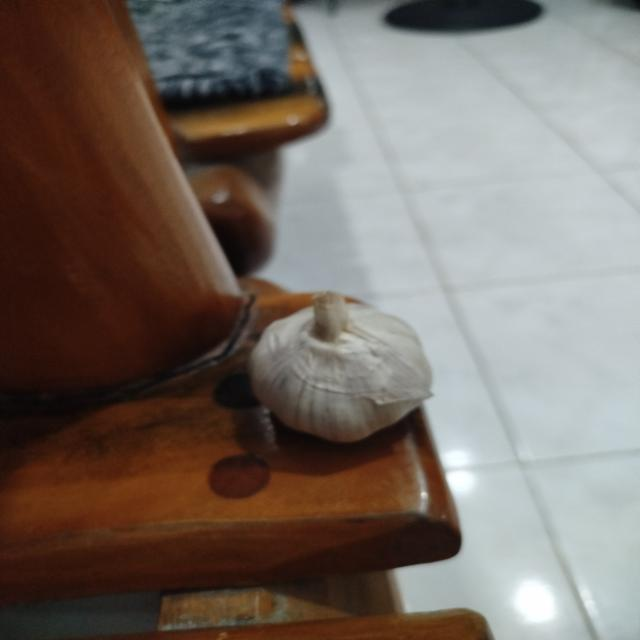garlic: (247, 290, 434, 444)
